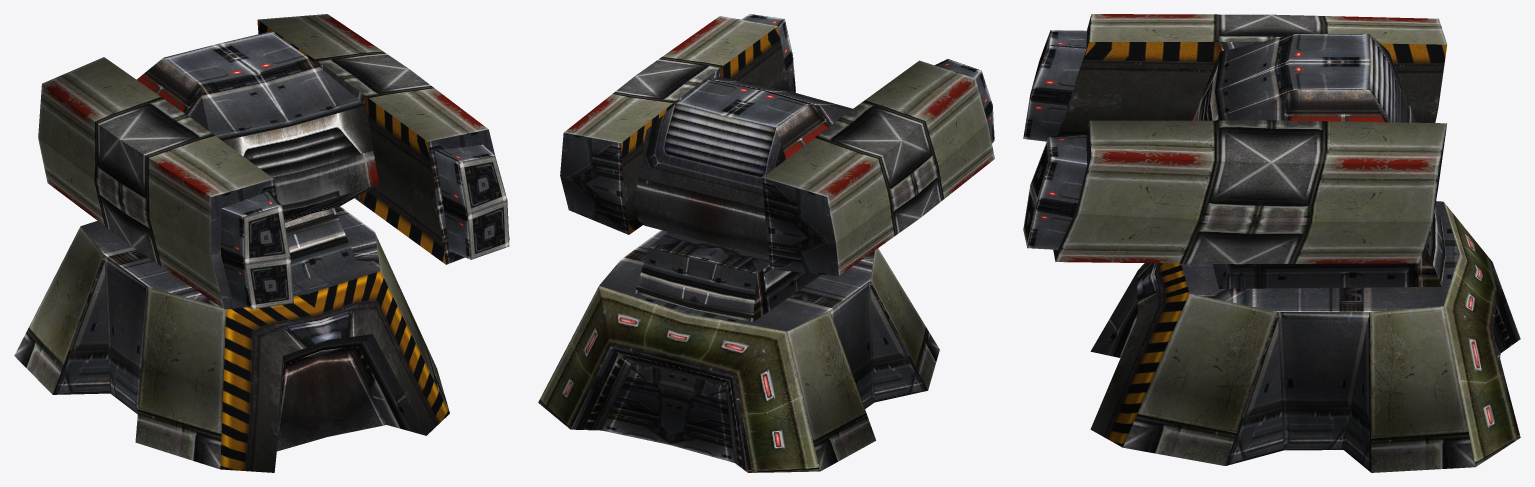
Rendered from r-launcher-05.DAE.
3 renders of one model, left to right at view 1: azimuth 30°, elevation 25°; view 2: azimuth 150°, elevation 25°; view 3: azimuth 270°, elevation 25°, orthographic. The views are drawn at different scales.
Parts seen in each view (by area): view 1: r-launcher-05; view 2: r-launcher-05; view 3: r-launcher-05.
Part boxes in pixels (x1,y1,x2,y2): r-launcher-05: (14, 14, 509, 472); r-launcher-05: (538, 14, 994, 472); r-launcher-05: (1023, 14, 1520, 472).
Bounding box in the file's own units: 3.43 × 4.28 × 3.12.
